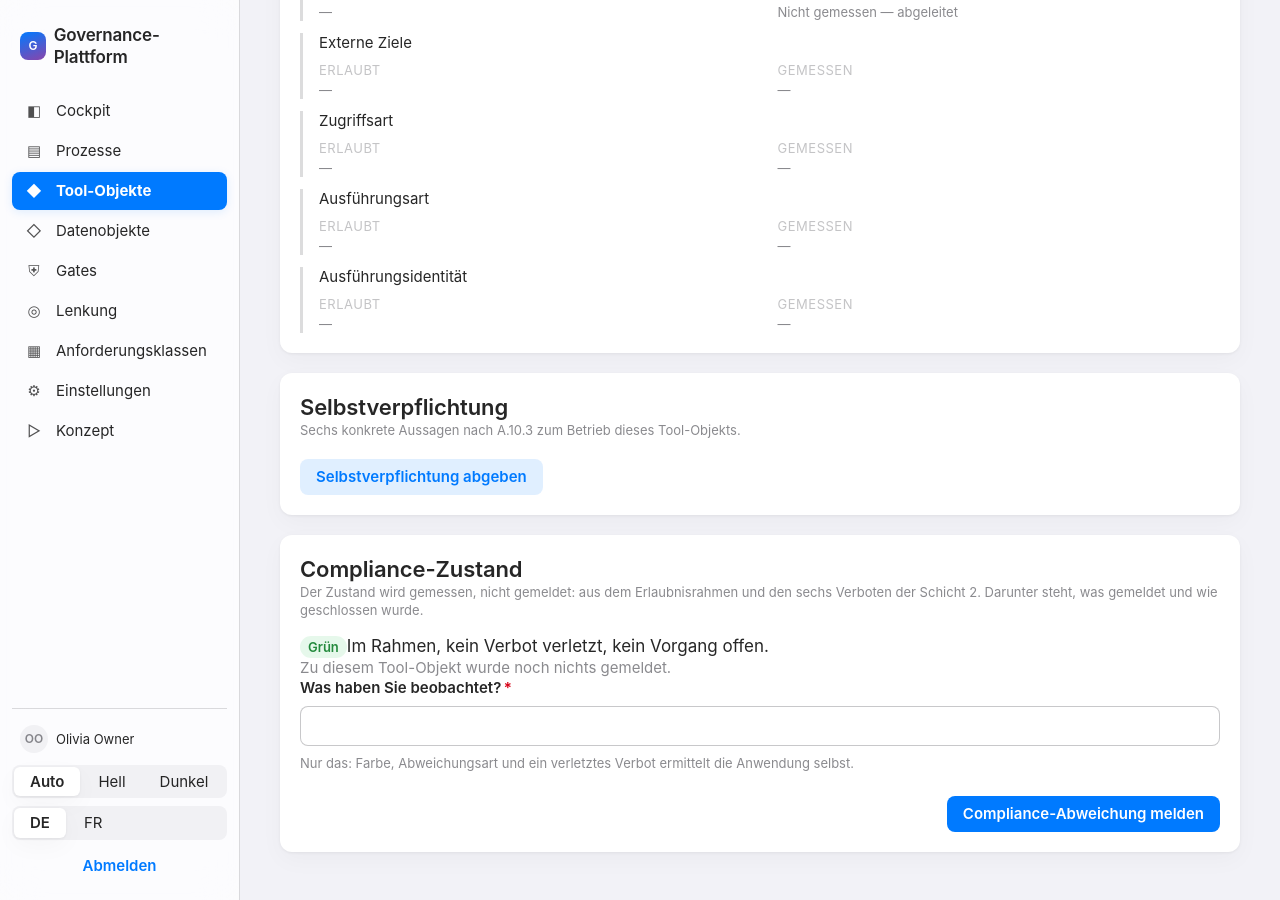
Compliance-Zeitreihe › meldet einen abgelehnten Versuch
The image size is (1280, 900).
(page scrolled)
Type "Etwas" into the field labelled "Was haben Sie beobachtet?". click: (760, 726)
box: [300,706,1220,746]
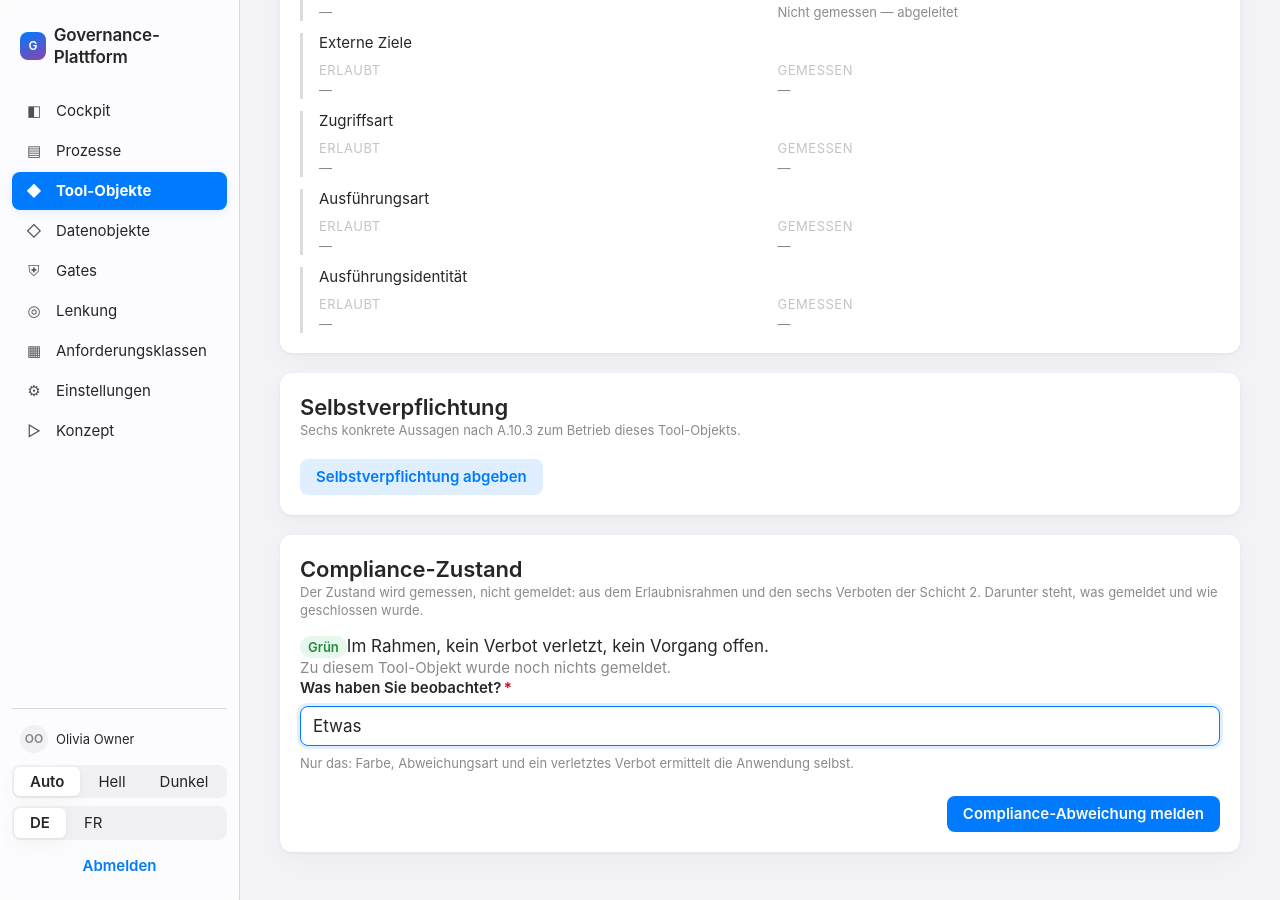
Click the button with test id "abweichung-melden". click: (1083, 814)
box: [947,796,1220,832]
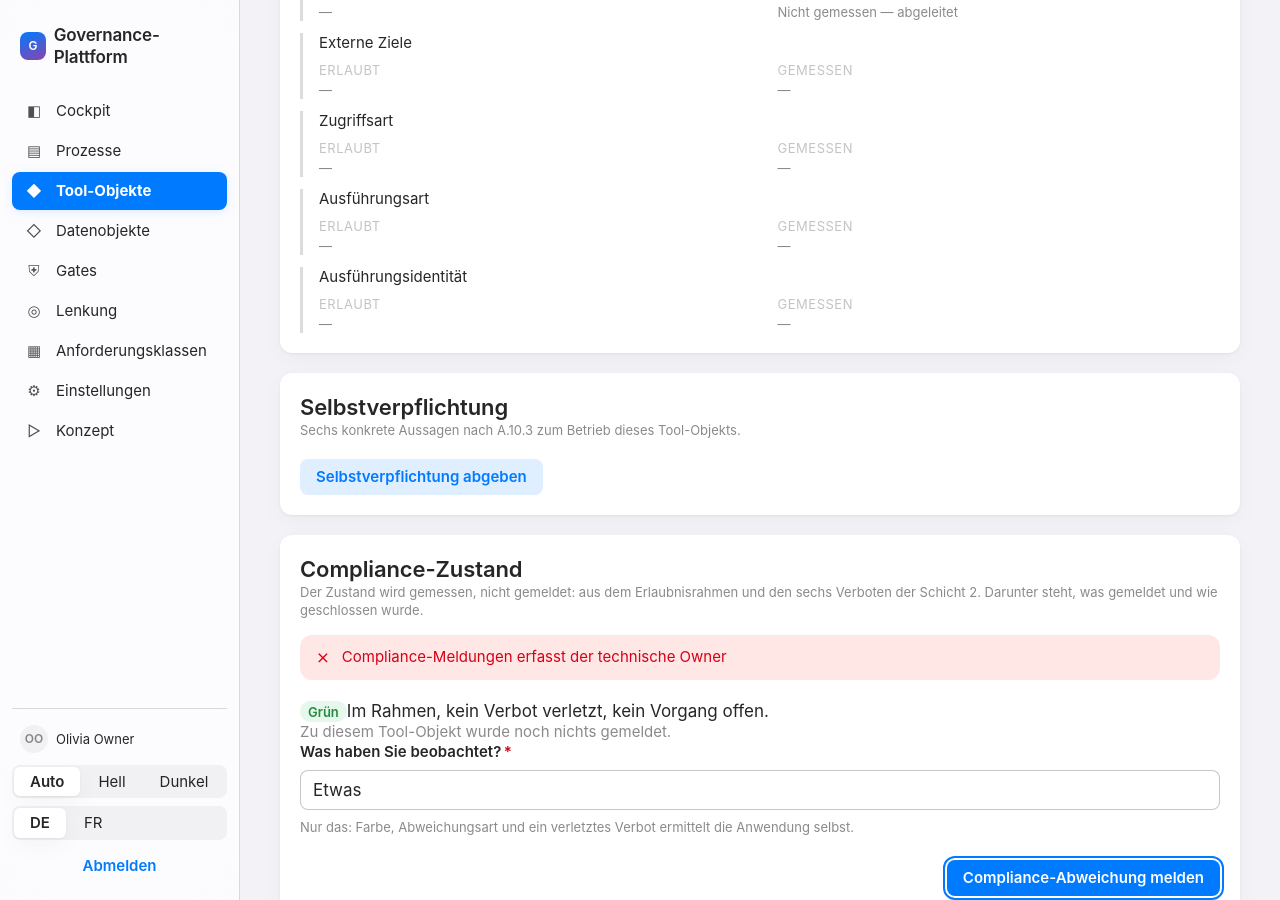
Expected: the message shows "technische Owner", [342,647,727,666]
